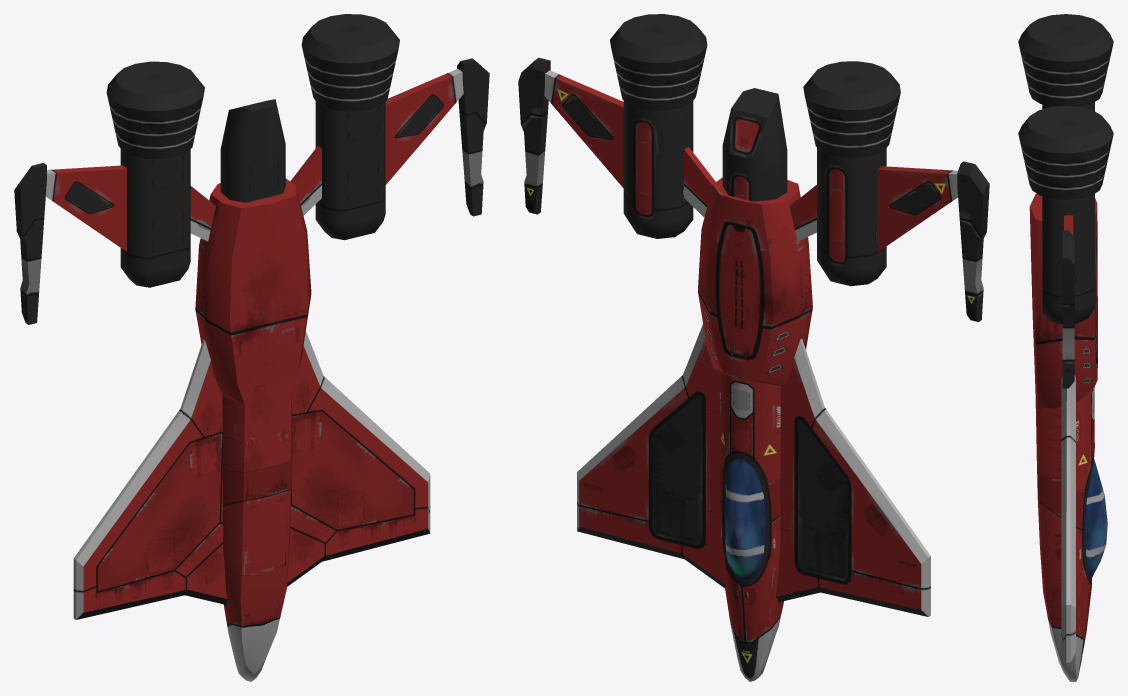
3 views of the same model, side by side, from view 1: azimuth 30°, elevation 25°; view 2: azimuth 150°, elevation 25°; view 3: azimuth 270°, elevation 25° (orthographic). The views are drawn at different scales.
Visible parts, largest first — view 1: StarSparrow07; view 2: StarSparrow07; view 3: StarSparrow07.
Part boxes in pixels (x1,y1,x2,y2): StarSparrow07: (14, 14, 489, 681); StarSparrow07: (518, 14, 989, 681); StarSparrow07: (1018, 14, 1113, 681).
Size of the model in its own units: 961 by 1231 by 176.
Materials: 1 (1 with a texture image).
